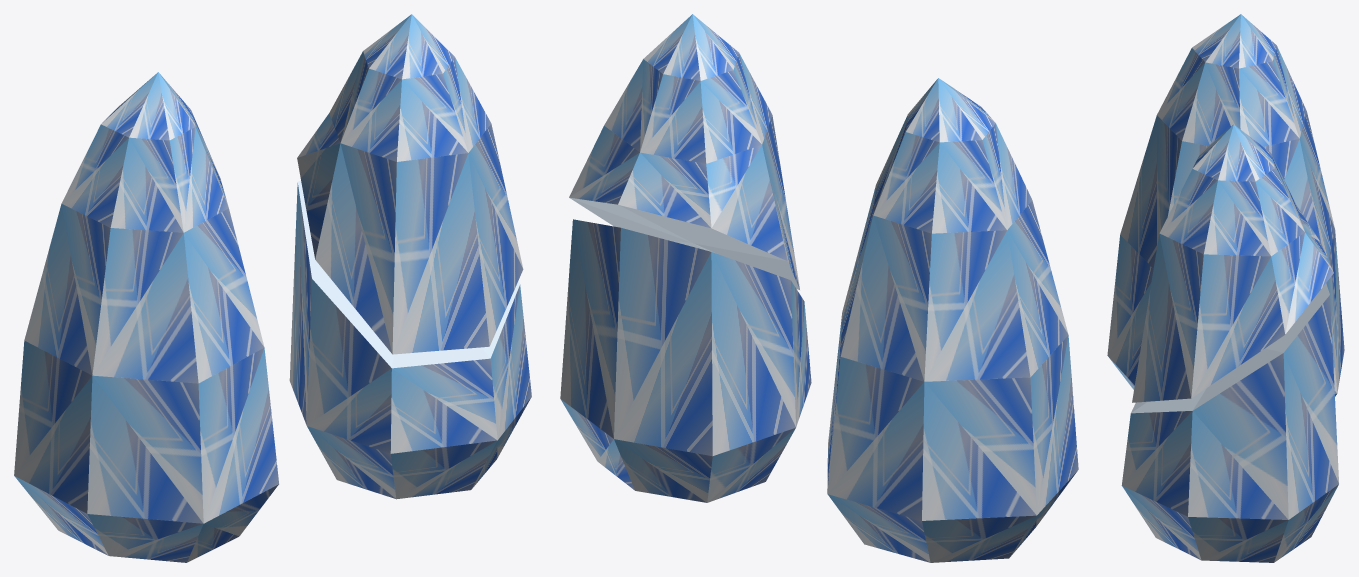
File: asset.glb
3 views of the same model, side by side, from view 1: azimuth 30°, elevation 25°; view 2: azimuth 150°, elevation 25°; view 3: azimuth 270°, elevation 25° (orthographic). The views are drawn at different scales.
Visible parts, largest first — view 1: Whole moonsteel crystal, Split crystal upper half, Split crystal lower half; view 2: Whole moonsteel crystal, Split crystal lower half, Split crystal upper half; view 3: Split crystal lower half, Split crystal upper half, Whole moonsteel crystal.
Boxes of the visible parts, x1=… form: Whole moonsteel crystal: x1=14, y1=72, x2=278, y2=562; Split crystal upper half: x1=297, y1=14, x2=523, y2=354; Split crystal lower half: x1=289, y1=180, x2=531, y2=499; Whole moonsteel crystal: x1=827, y1=78, x2=1078, y2=562; Split crystal lower half: x1=560, y1=219, x2=811, y2=502; Split crystal upper half: x1=569, y1=14, x2=799, y2=289; Split crystal lower half: x1=1121, y1=283, x2=1338, y2=562; Split crystal upper half: x1=1132, y1=124, x2=1333, y2=402; Whole moonsteel crystal: x1=1107, y1=14, x2=1344, y2=396.
Bounding box in the file's own units: 0.386 × 0.35 × 0.1851.
Materials: 4 (3 with a texture image).
